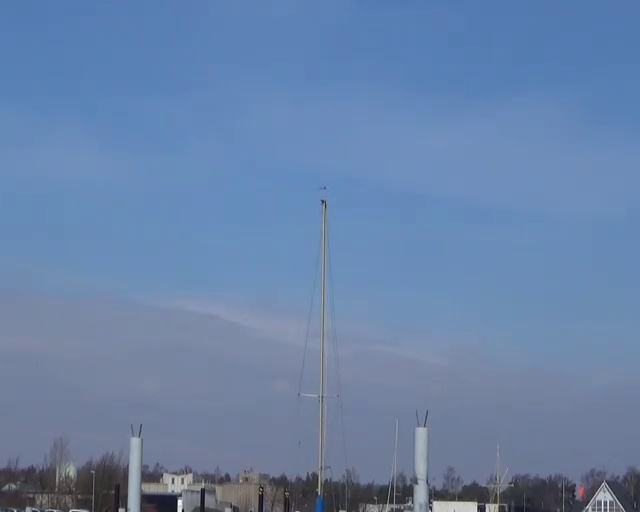BIRD: (48, 365, 56, 374)
